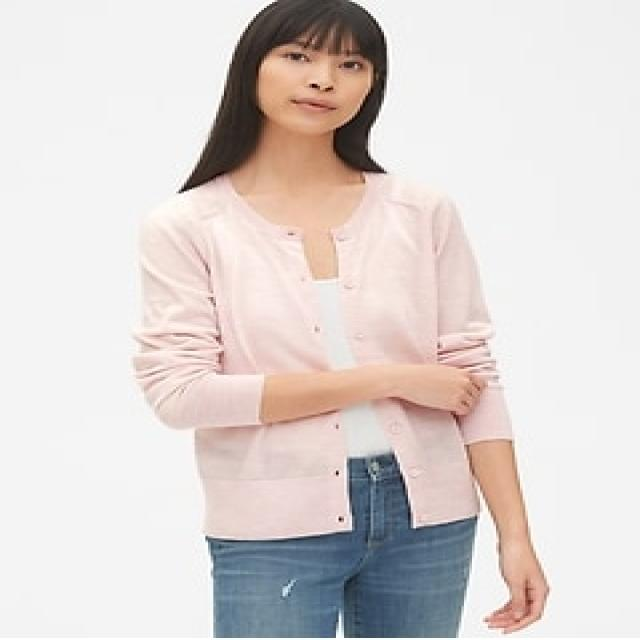mobile_phonerotation: (128, 0, 549, 638)
